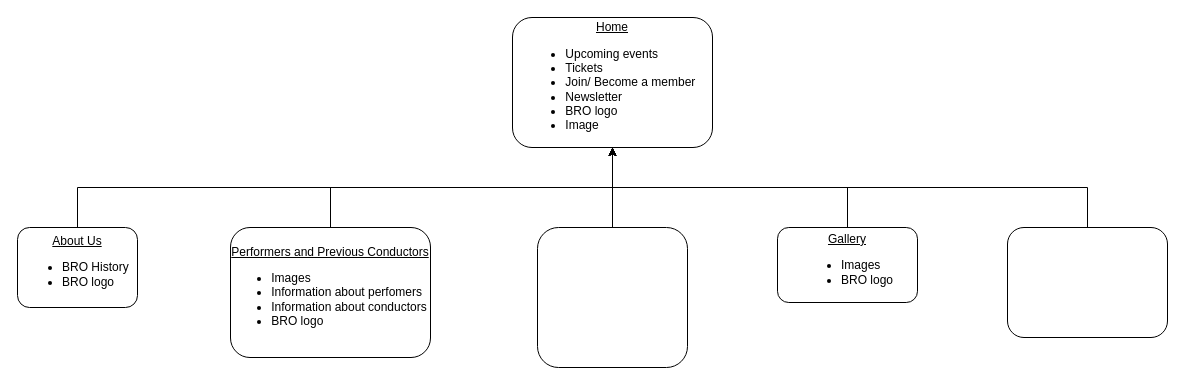
The diagram is 1185 pixels wide and 385 high, and some of its shapes have lost their labels. Each missing label, with the centre of its shape:
"Become a member Form for becoming a member Contact information BRO logo" belongs at point (1087, 282).
"Sponsors and Supporters BRO logo Sponsor logo Information about the supporters" belongs at point (612, 297).
